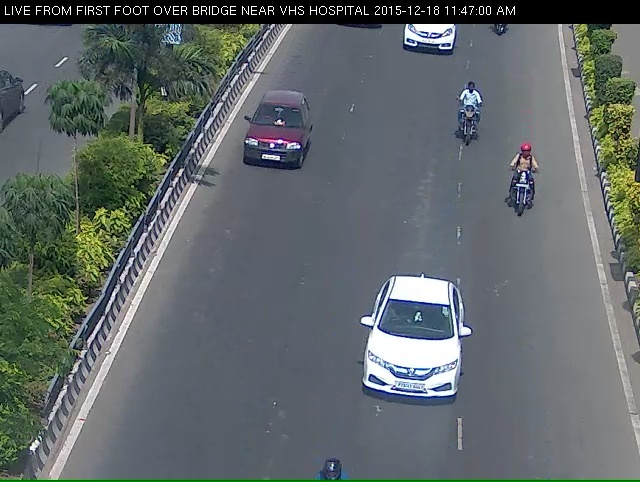Car: (361, 290, 472, 448), (226, 97, 312, 197)
Person: (453, 74, 489, 165), (513, 155, 542, 236)
